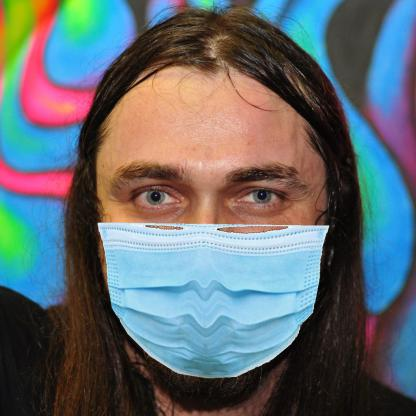Correctly_Masked: (93, 78, 330, 380)
